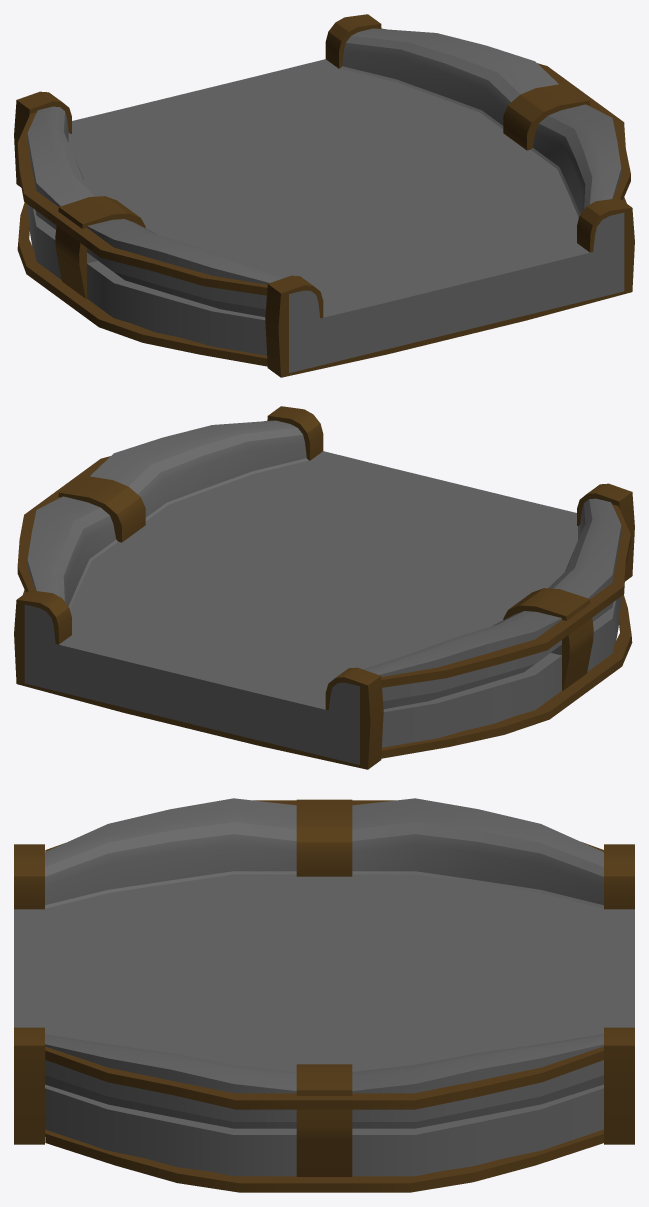
Rendered from mesh_brisge_2.fbx.
3 renders of one model, top to bottom at view 1: azimuth 30°, elevation 25°; view 2: azimuth 150°, elevation 25°; view 3: azimuth 270°, elevation 25°, orthographic. The views are drawn at different scales.
Visible parts, largest first — view 1: brisge_2; view 2: brisge_2; view 3: brisge_2.
Boxes of the visible parts, box(x1,y1,x2,y2) form: brisge_2: box(14, 14, 634, 377); brisge_2: box(14, 406, 634, 769); brisge_2: box(14, 798, 634, 1192).
Size of the model in its own units: 6903 by 1157 by 6042.
Materials: 1 (1 with a texture image).
